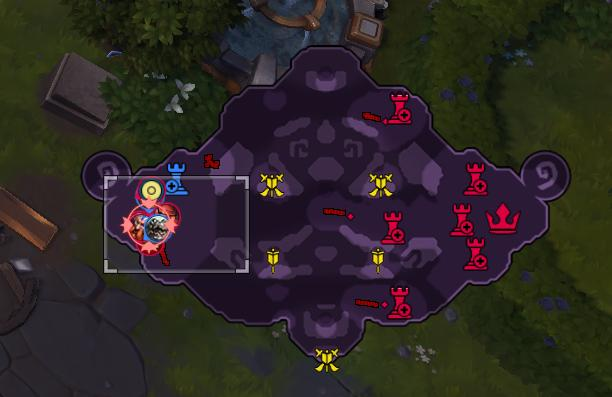blue tower: (164, 161, 189, 195)
red nexus: (484, 201, 521, 234)
red player: (133, 174, 166, 205), (142, 213, 171, 244), (122, 212, 148, 242), (157, 202, 181, 233), (137, 237, 164, 256)
red tower: (383, 90, 412, 125), (385, 284, 412, 319), (462, 161, 488, 195), (379, 210, 405, 244), (462, 236, 488, 270), (449, 202, 474, 236)
